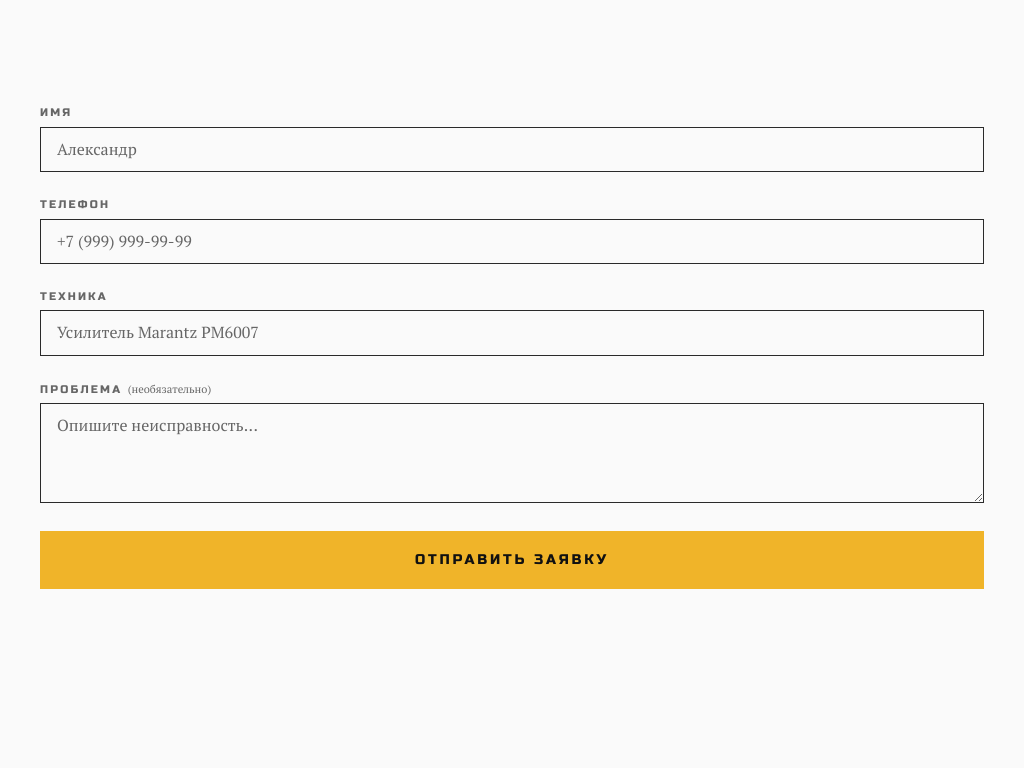
RepairRequestForm › валидация › показывает ошибку при пустом имени
Step 1. Click the button "ОТПРАВИТЬ ЗАЯВКУ" → (512, 560), box [40, 531, 984, 589]
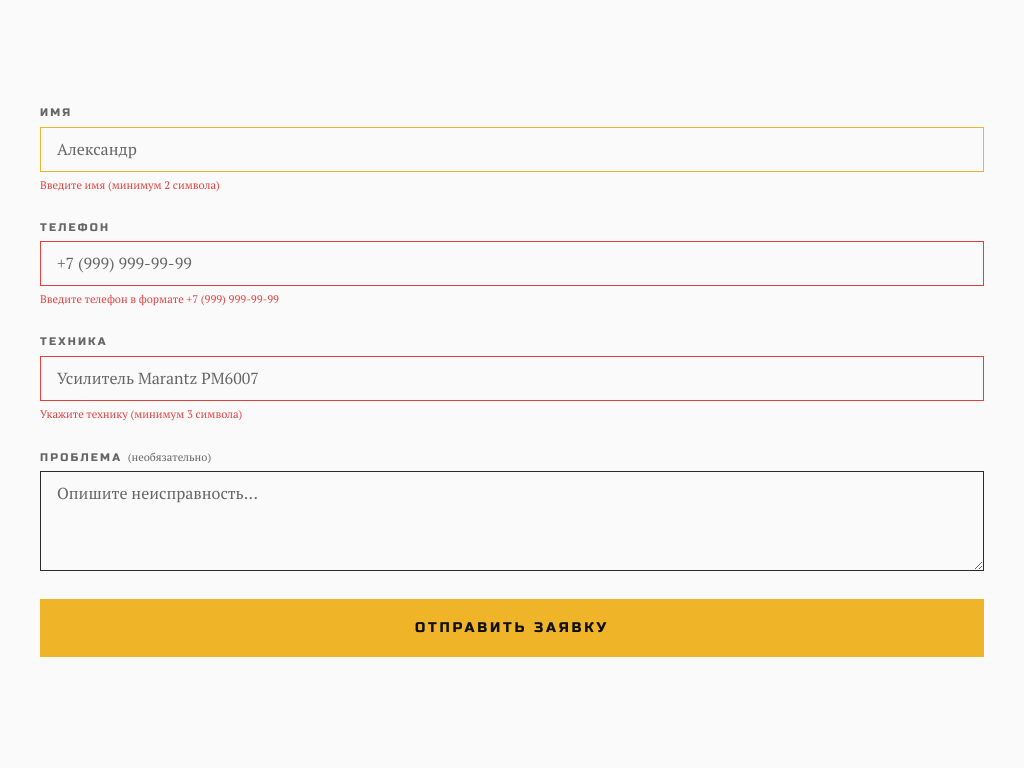
Expected: the text "Введите имя (минимум 2 символа)" is shown, [40, 178, 220, 192]
